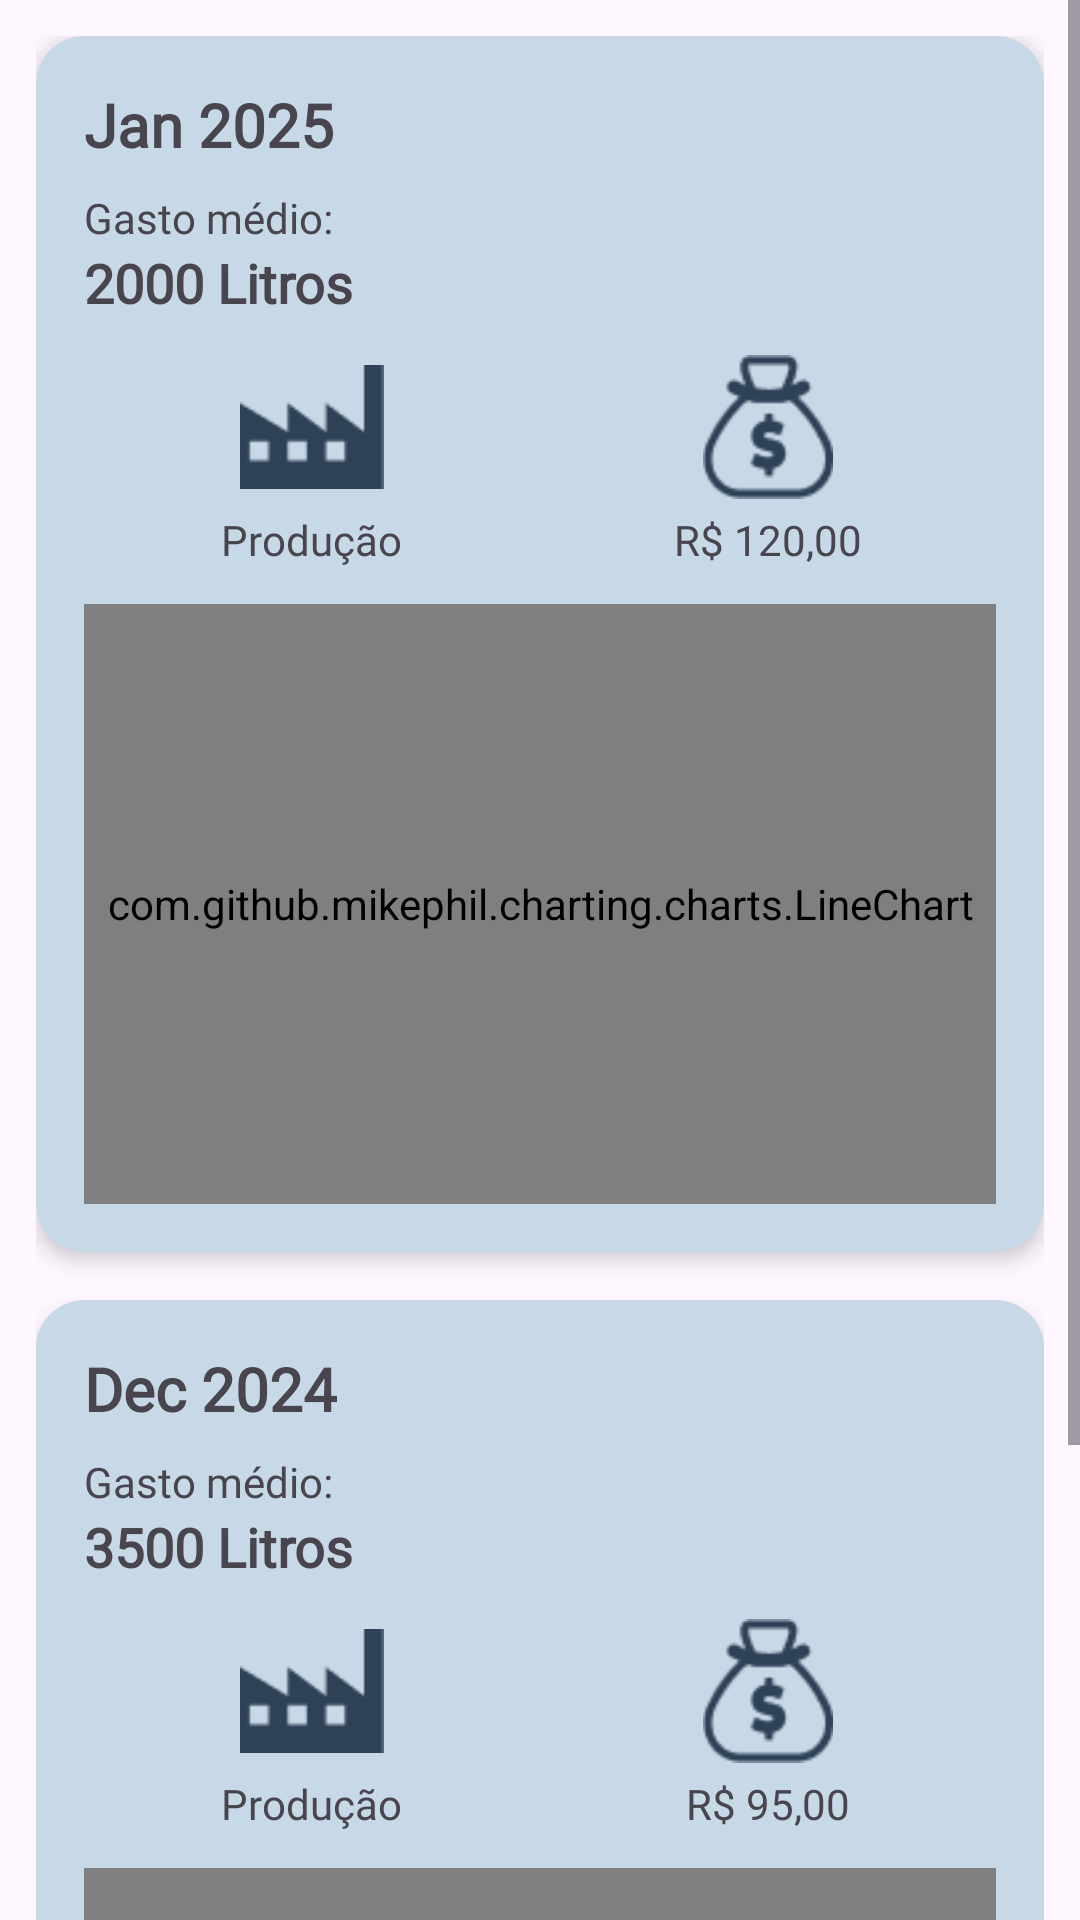

Screen size 1080 × 1920. Icon name, then its box in pixels as (x1, y1, x2, y2):
dinheiro: (703, 355, 833, 499), (703, 1619, 833, 1763)
fabrica: (240, 365, 384, 489), (240, 1629, 384, 1753)
